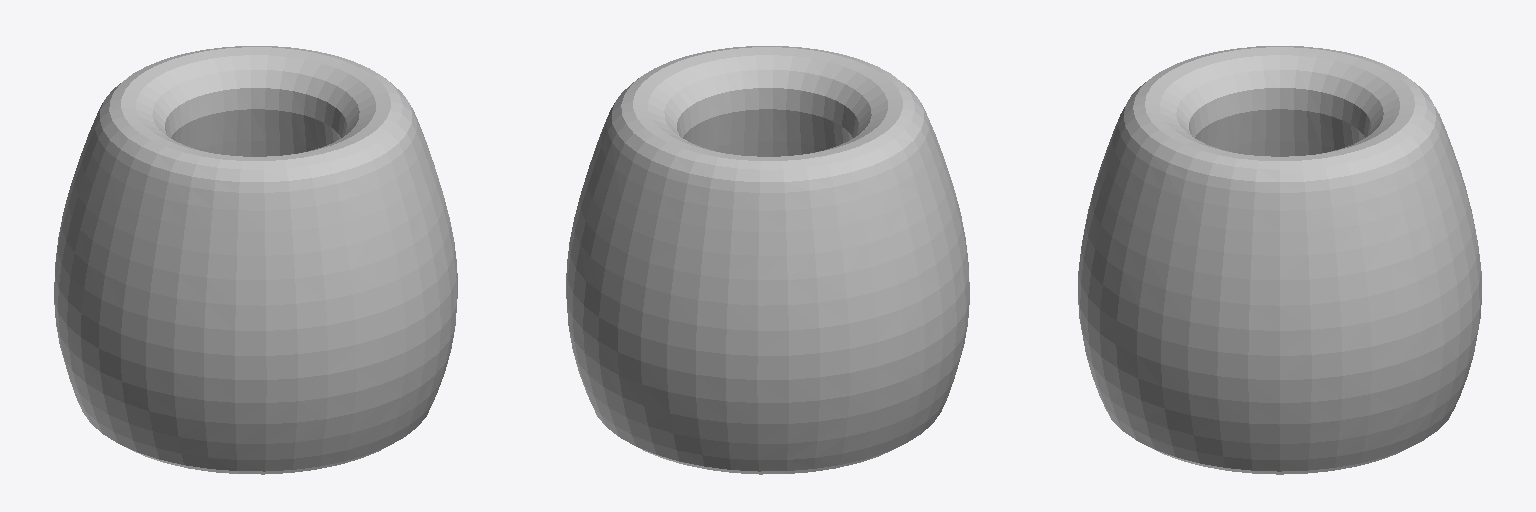
File: defaultMaterial.obj
3 views of the same model, side by side, from view 1: azimuth 30°, elevation 25°; view 2: azimuth 150°, elevation 25°; view 3: azimuth 270°, elevation 25° (orthographic).
Visible parts, largest first — view 1: defaultMaterial; view 2: defaultMaterial; view 3: defaultMaterial.
Part boxes in pixels (x1,y1,x2,y2): defaultMaterial: (54,46,457,474); defaultMaterial: (566,46,969,474); defaultMaterial: (1078,46,1481,474).
Bounding box in the file's own units: 1.04 × 0.8612 × 1.04.